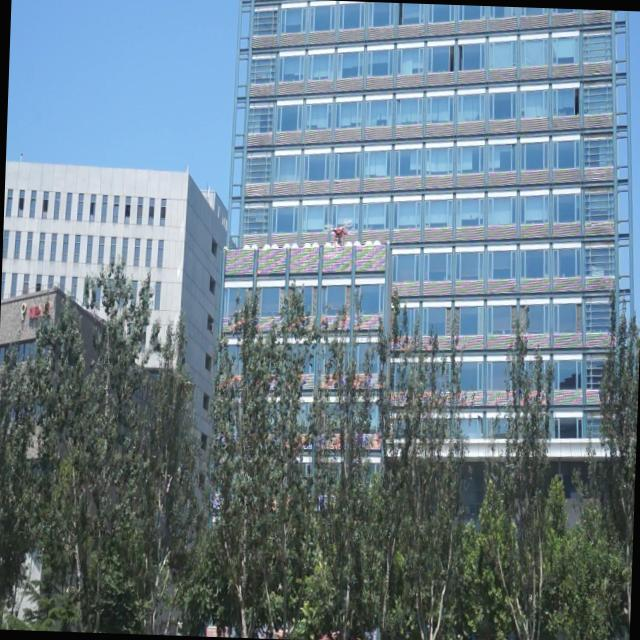drone: (329, 221, 348, 248)
